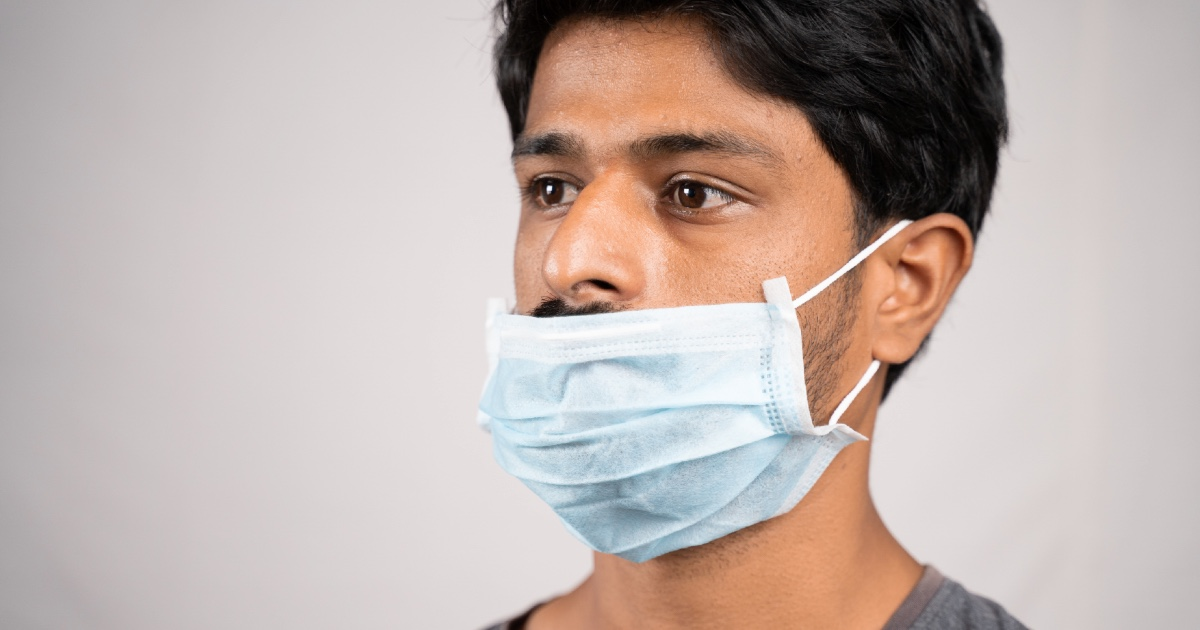with_incorrect_mask: (445, 83, 893, 550)
